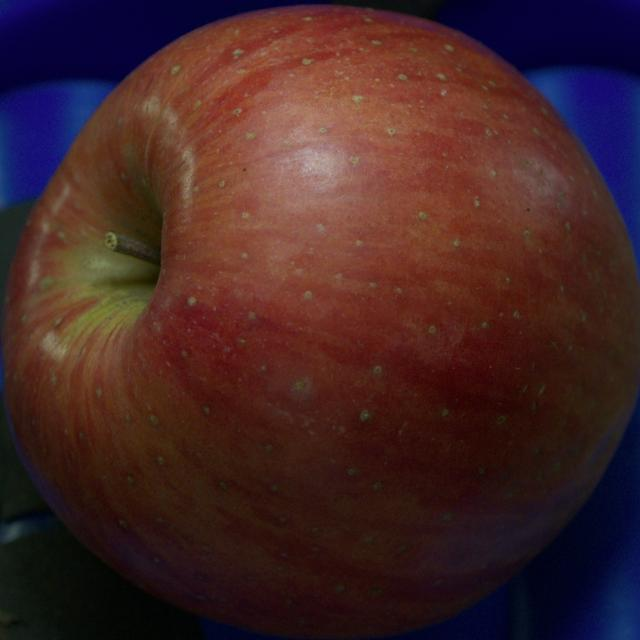apple: (0, 6, 639, 638)
